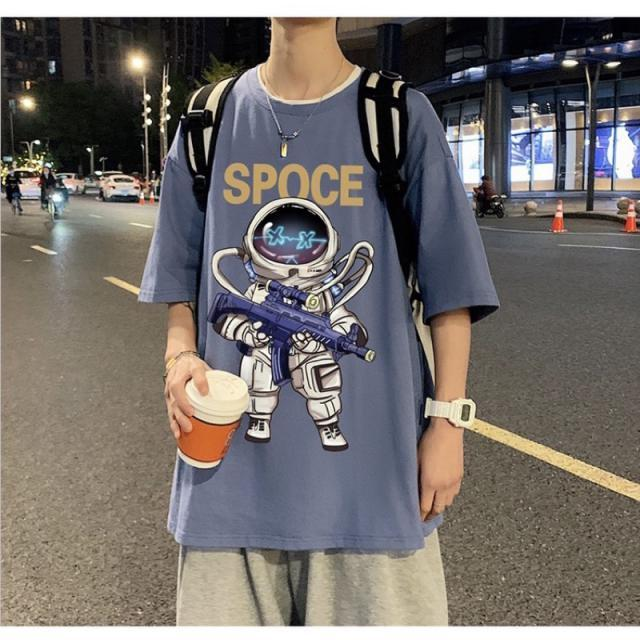Shirt: (133, 62, 494, 550)
